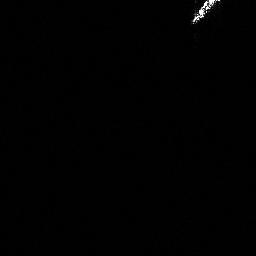ship: (189, 1, 221, 27)
